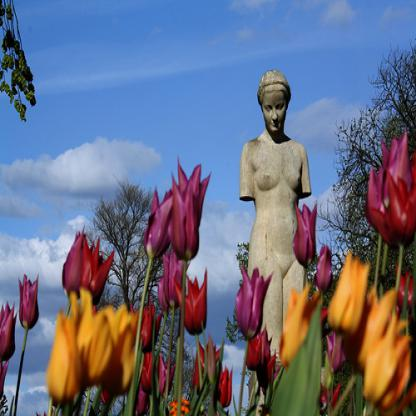TULIP: (47, 162, 412, 408)
